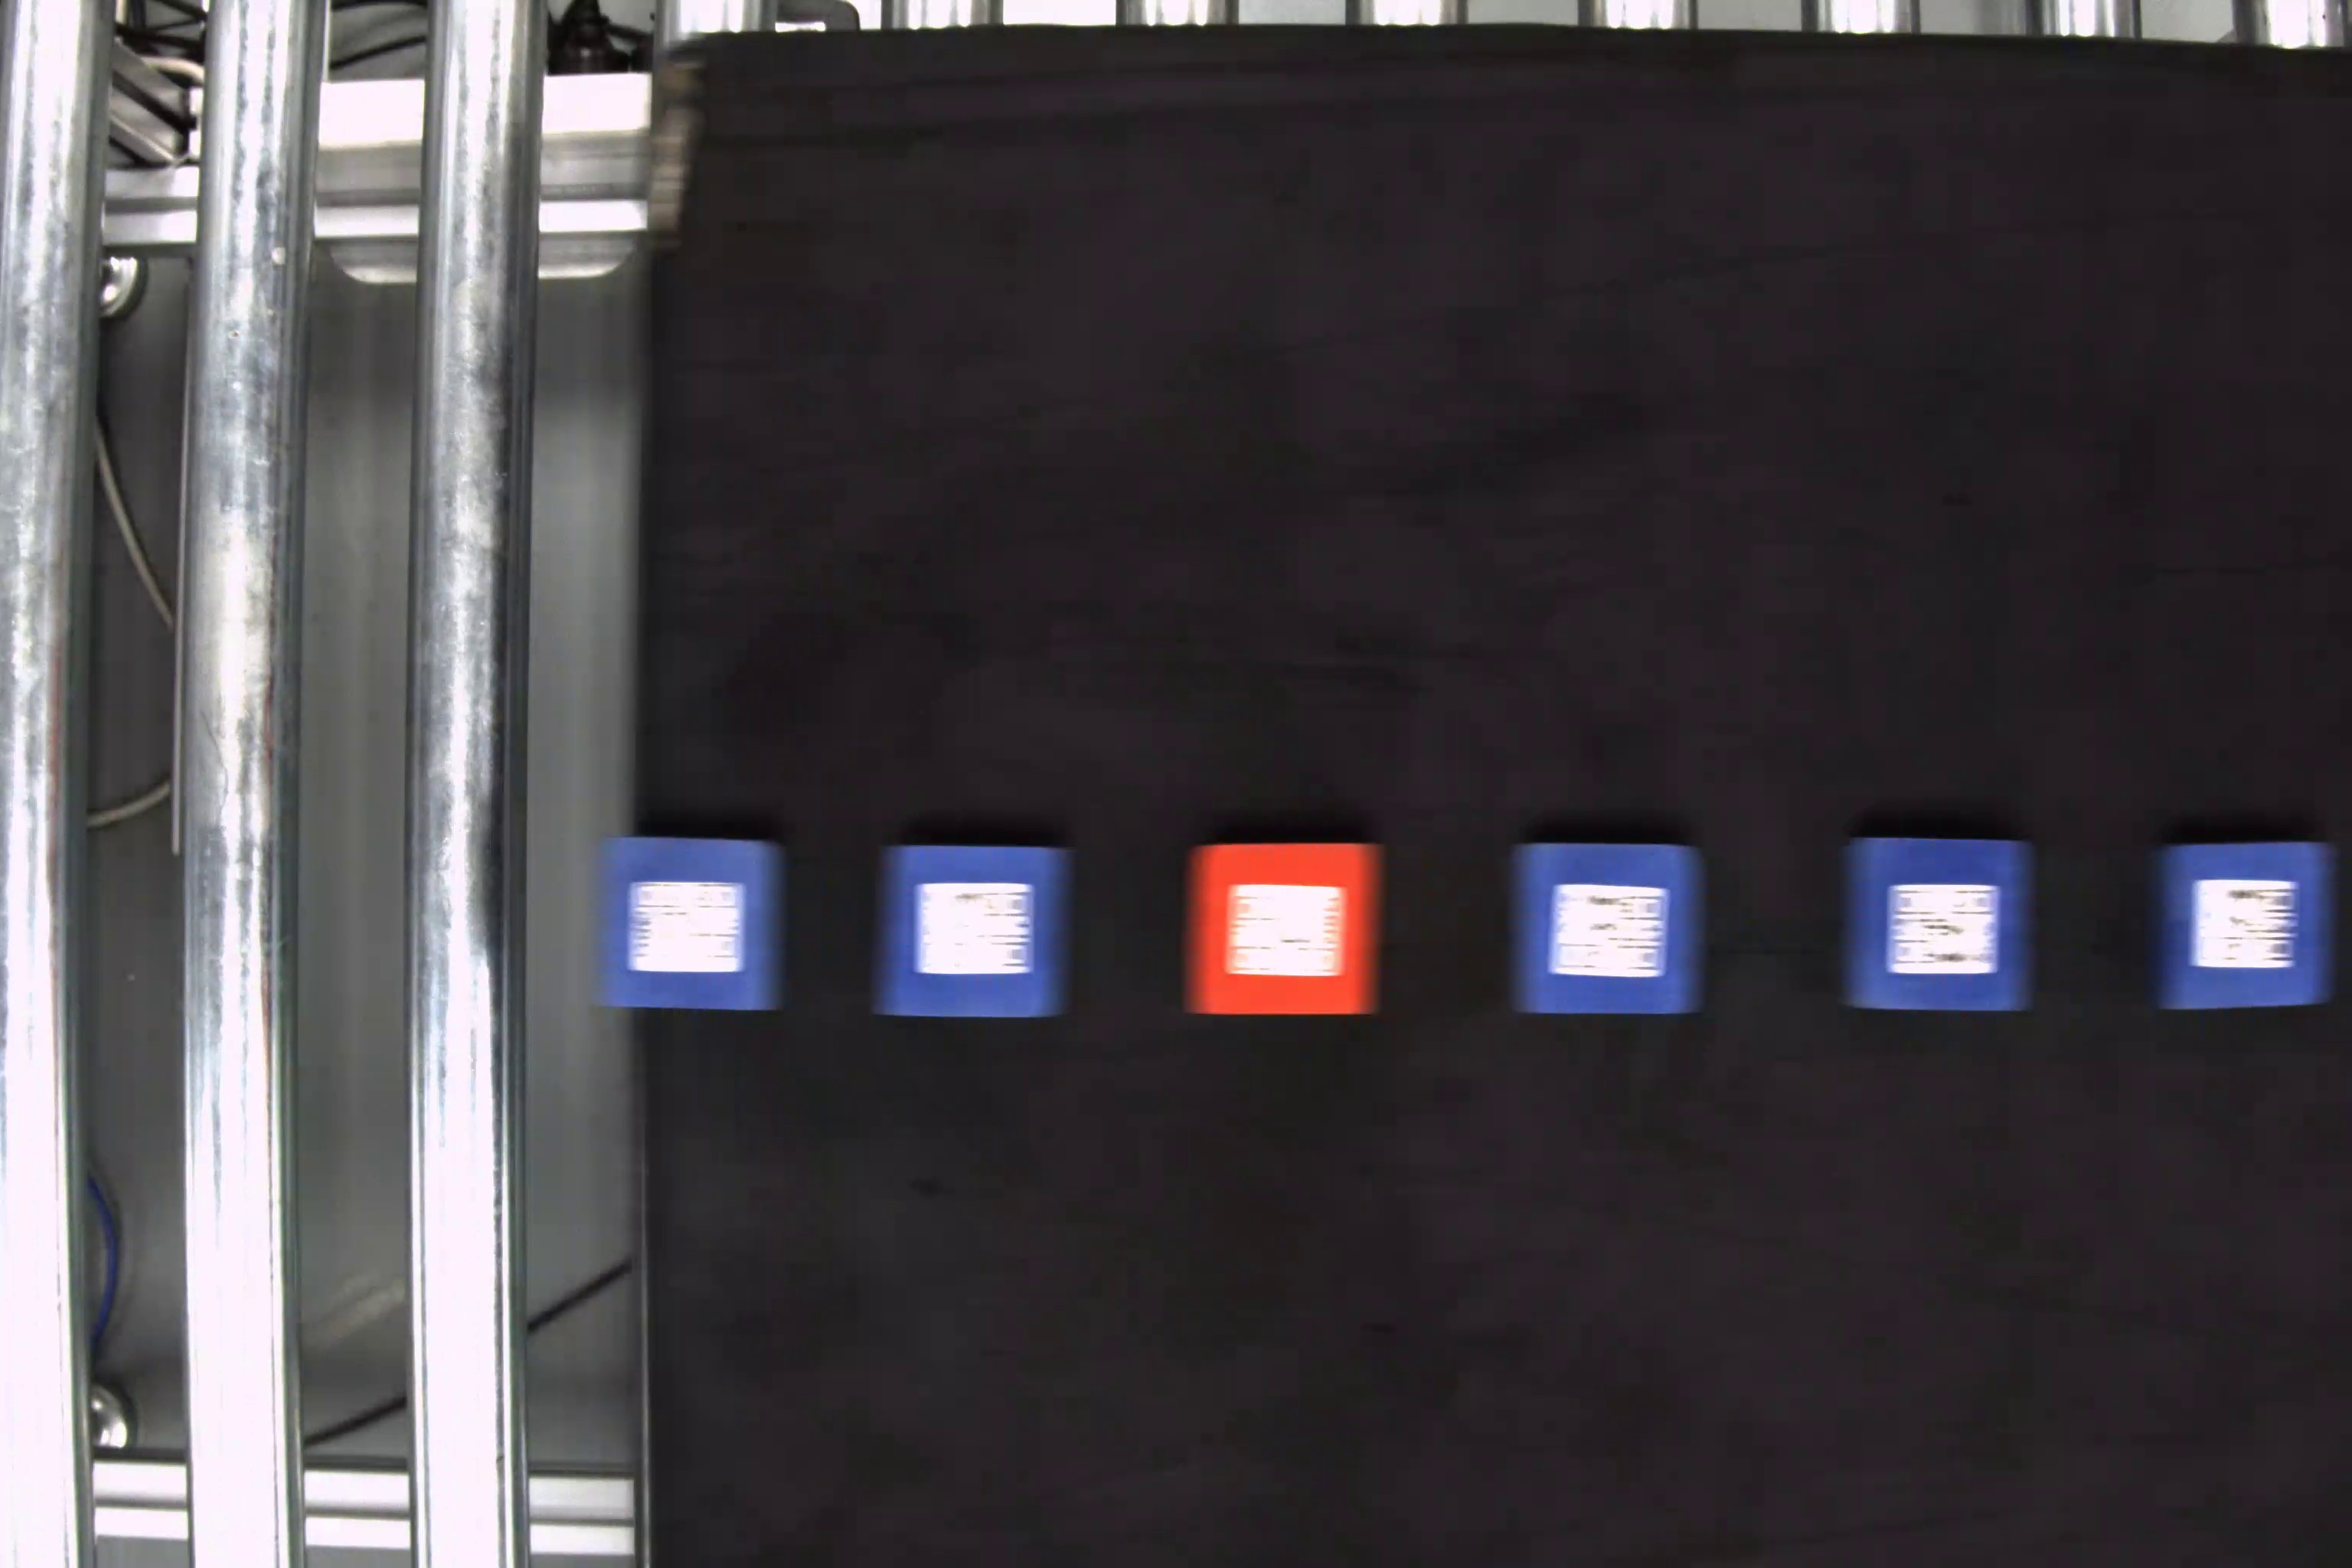wood: (1512, 840, 1708, 1022), (878, 840, 1067, 1017), (1843, 840, 2035, 1013), (602, 833, 786, 1013), (1192, 842, 1375, 1017), (2156, 842, 2338, 1008)
